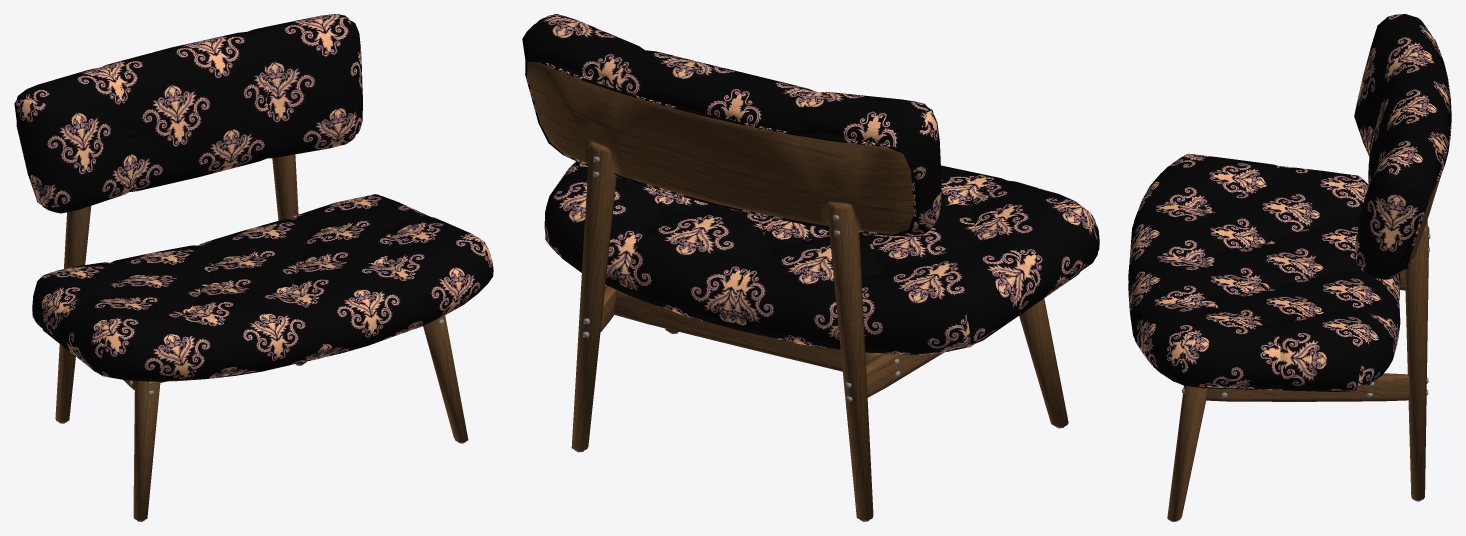
File: ChairDamaskPurplegold.glb
3 views of the same model, side by side, from view 1: azimuth 30°, elevation 25°; view 2: azimuth 150°, elevation 25°; view 3: azimuth 270°, elevation 25° (orthographic). The views are drawn at different scales.
Parts seen in each view (by area): view 1: oval-tufted-chair_seat-fabric, oval-tufted-chair_back-fabric, oval-tufted-chair_legs-frame; view 2: oval-tufted-chair_seat-fabric, oval-tufted-chair_back-panel, oval-tufted-chair_legs-frame, oval-tufted-chair_back-fabric, oval-tufted-chair_back-welt; view 3: oval-tufted-chair_seat-fabric, oval-tufted-chair_back-fabric, oval-tufted-chair_legs-frame, oval-tufted-chair_back-welt, oval-tufted-chair_back-panel.
Boxes of the visible parts, x1,y1,x2,y2 form: oval-tufted-chair_seat-fabric: (32,194,493,380); oval-tufted-chair_back-fabric: (14,14,362,213); oval-tufted-chair_legs-frame: (55,154,468,520); oval-tufted-chair_seat-fabric: (544,161,1099,354); oval-tufted-chair_back-panel: (527,62,913,234); oval-tufted-chair_legs-frame: (571,142,1068,520); oval-tufted-chair_back-fabric: (522,14,941,237); oval-tufted-chair_back-welt: (525,58,916,236); oval-tufted-chair_seat-fabric: (1128,153,1400,390); oval-tufted-chair_back-fabric: (1354,14,1450,279); oval-tufted-chair_legs-frame: (1167,220,1429,520); oval-tufted-chair_back-welt: (1405,39,1451,269); oval-tufted-chair_back-panel: (1407,174,1441,266).
Bounding box in the file's own units: 0.8286 × 0.6865 × 0.5716.
Materials: 4 (3 with a texture image).
